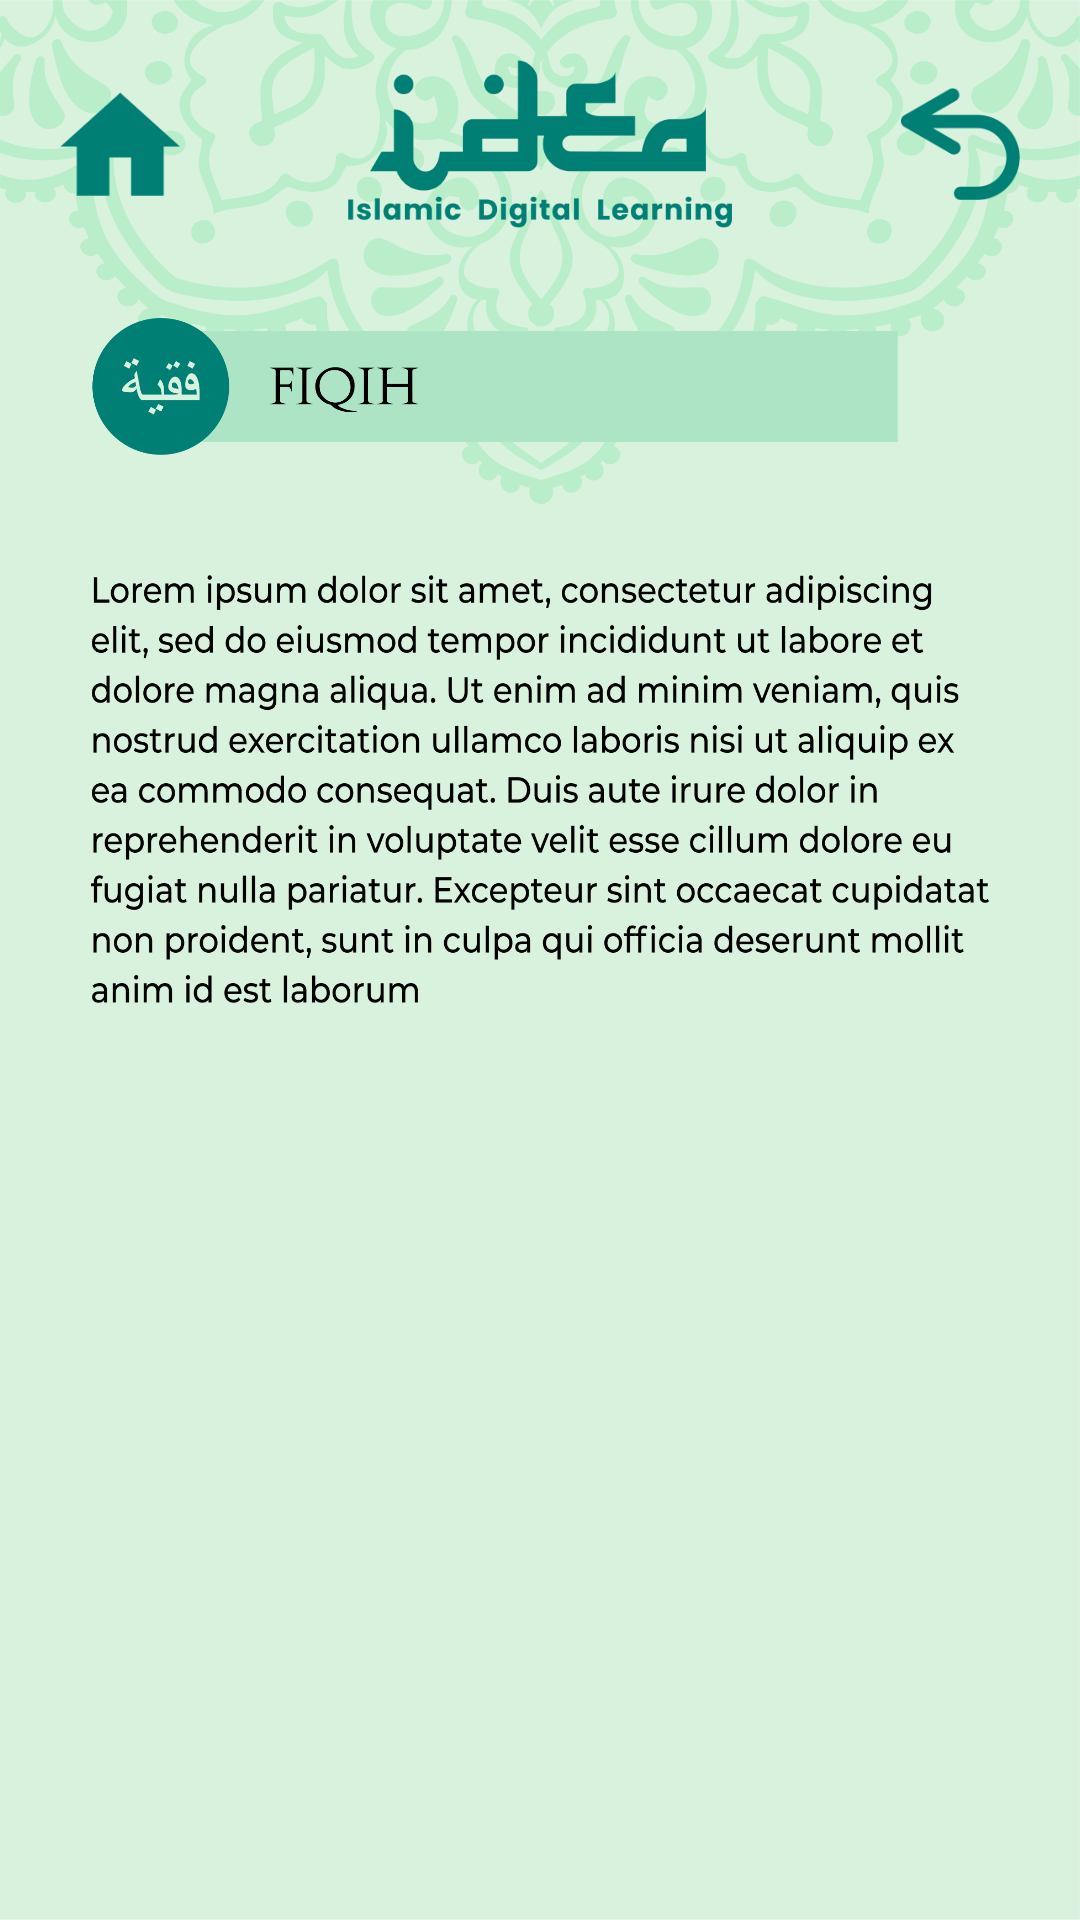

Where to tap for icons on this 1080×1920 app screen, as [x,y]:
back: [960,144]
home: [120,144]
